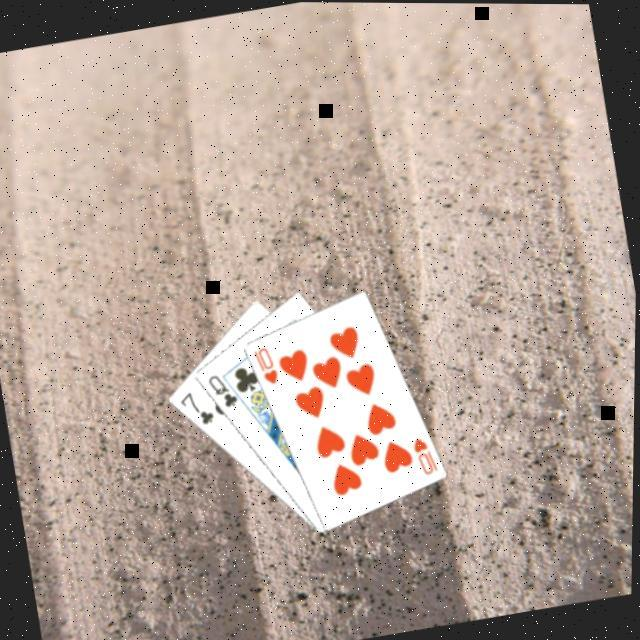10H: (251, 339, 285, 387), (410, 428, 444, 476)
7C: (177, 383, 221, 429)
QC: (205, 365, 244, 410)
